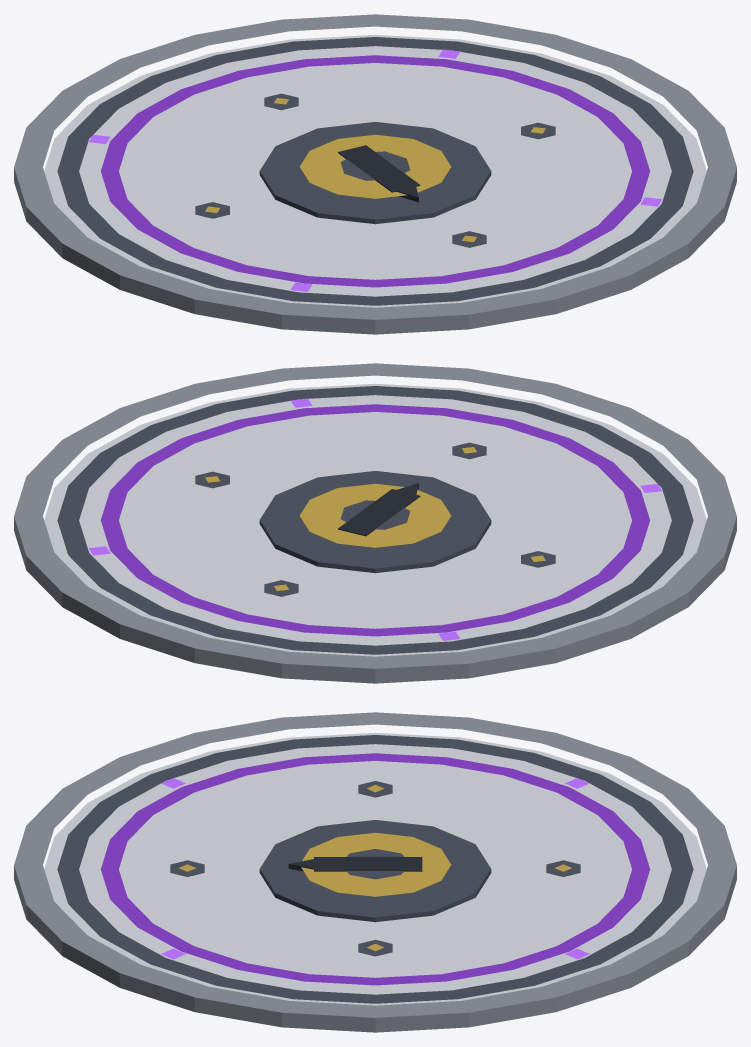
File: mortar_rare_area.glb
The picture shows the model from 3 angles, top to bottom: view 1: azimuth 30°, elevation 25°; view 2: azimuth 150°, elevation 25°; view 3: azimuth 270°, elevation 25°; orthographic projection.
Visible parts, largest first — view 1: mortar_rare_area; view 2: mortar_rare_area; view 3: mortar_rare_area.
Boxes of the visible parts, x1,y1,x2,y2 form: mortar_rare_area: (14,14,736,334); mortar_rare_area: (14,363,736,683); mortar_rare_area: (14,712,736,1032).
Bounding box in the file's own units: 2 × 0.049 × 2.
2 materials, 2 textured.
